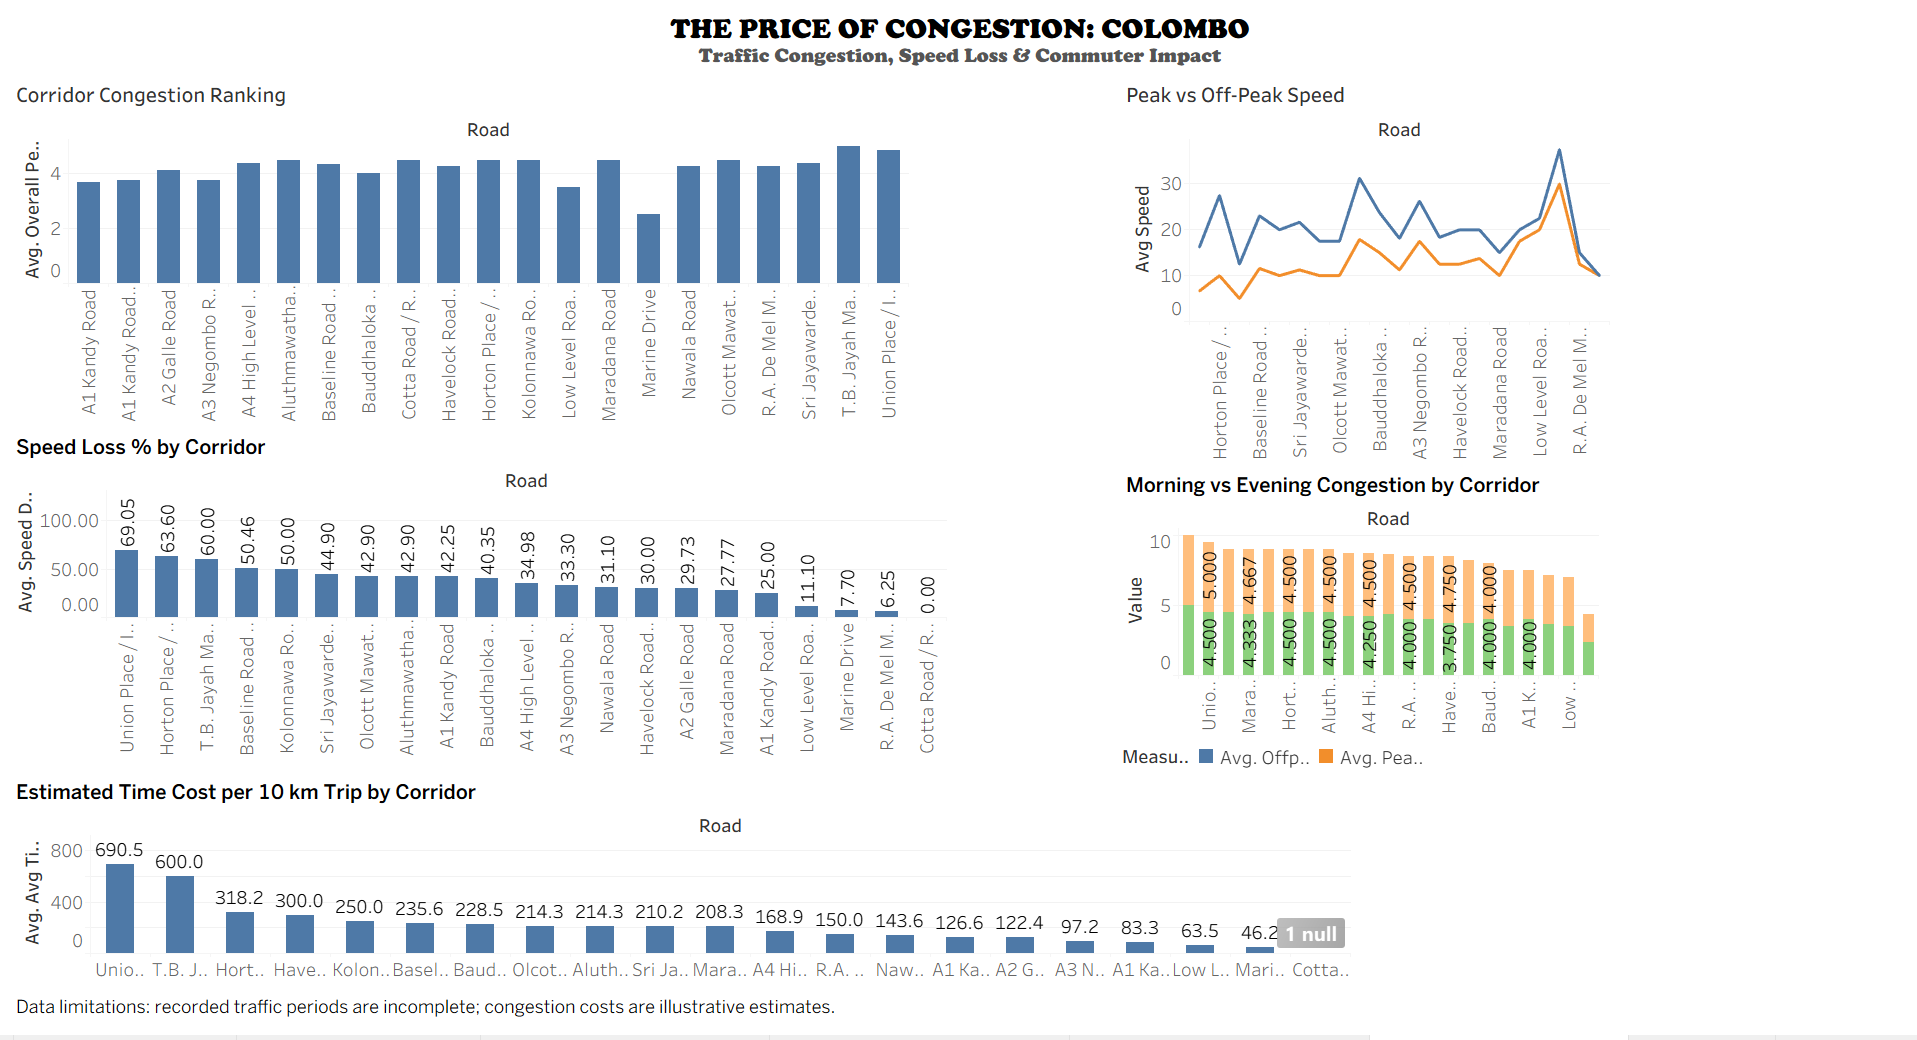

What the dashboard file says about the page in this screenshot:
{"tool":"tableau","page":{"name":"Colombo Traffic Overview","canvas":[1000,1000],"units":"permille","ordinal":0},"visuals":[{"type":"title","box":[5,9.8,990,78.2]},{"type":"worksheet","title":"Corridor Congestion Ranking","mark":"Automatic","rows":["road"],"cols":["overall_peak_congestion_index"],"box":[5,88,495,335.2]},{"type":"worksheet","title":"Peak vs Off-Peak Speed","mark":"Circle","rows":["road"],"box":[500,88,495,371.6]},{"type":"worksheet","title":"Speed Loss % by Corridor","mark":"Bar","rows":["road"],"cols":["speed_drop_pct"],"box":[5,423.2,495,325.6]},{"type":"worksheet","title":"Morning vs Evening Congestion","mark":"Bar","rows":["road"],"box":[500,459.6,495,250.1]},{"type":"legend","title":"Peak vs Off-Peak Speed","param":"[federated.18cqfrt1nrlqz911s9eqb0a6ipzj].[:Measure Names]","box":[500,709.8,495,39.1]},{"type":"worksheet","title":"Estimated Congestion Cost by Corridor","mark":"Automatic","rows":["road"],"cols":["avg_time_cost_lkr"],"box":[5,748.9,990,202.1]},{"type":"text","box":[5,951,990,39.3]}]}

Visuals, with their boxes on the dashboard's canvas, which has no fixed pixel size, in thousandths of its width and height (x1, y1, x2, y2). These are canvas units, not pixel positions in the 1917x1040 screenshot, which may show the page scaled, cropped or inside an application window:
title: bbox=[5, 10, 995, 88]
"Corridor Congestion Ranking" worksheet: bbox=[5, 88, 500, 423]
"Peak vs Off-Peak Speed" worksheet (Circle marks): bbox=[500, 88, 995, 460]
"Speed Loss % by Corridor" worksheet (Bar marks): bbox=[5, 423, 500, 749]
"Morning vs Evening Congestion" worksheet (Bar marks): bbox=[500, 460, 995, 710]
"Peak vs Off-Peak Speed" legend: bbox=[500, 710, 995, 749]
"Estimated Congestion Cost by Corridor" worksheet: bbox=[5, 749, 995, 951]
text: bbox=[5, 951, 995, 990]
